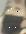with_mask: (1, 1, 26, 34)
